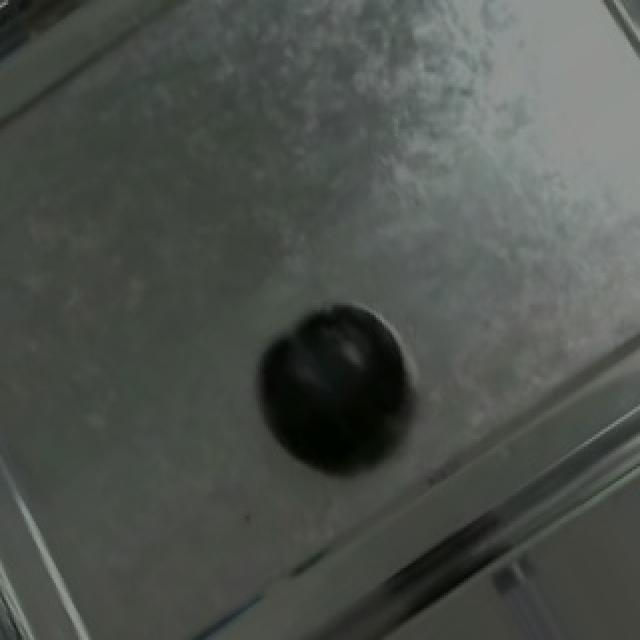Fruit: (250, 287, 422, 483)
